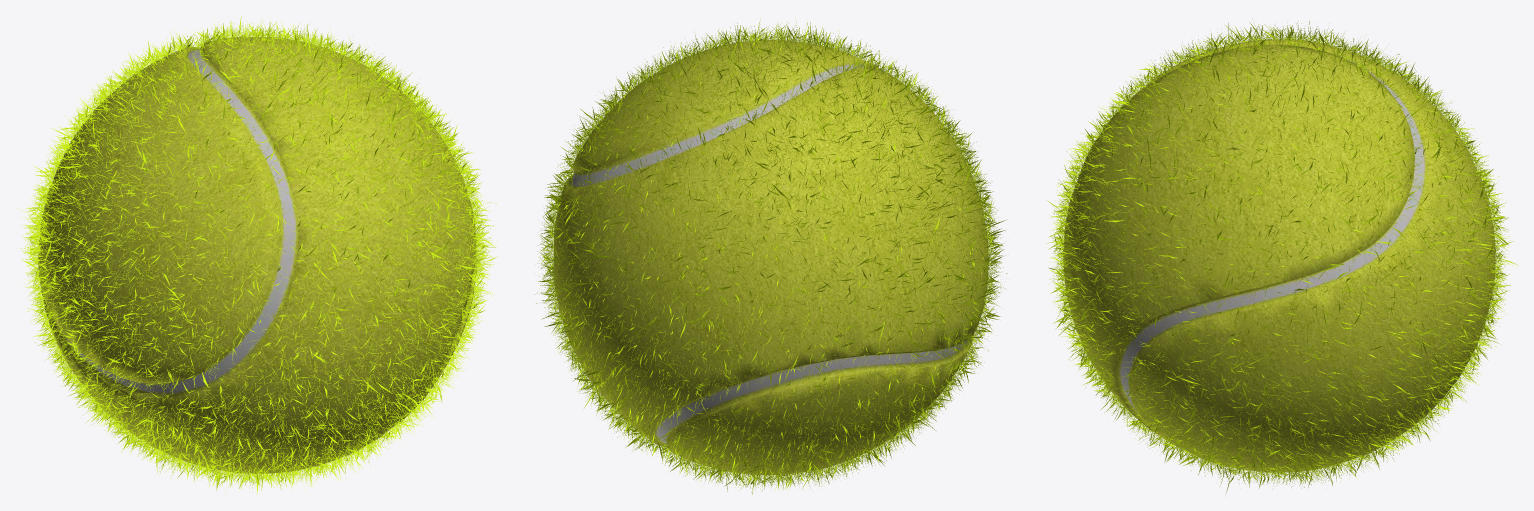
Rendered from tennis-ball.glb.
3 renders of one model, left to right at view 1: azimuth 30°, elevation 25°; view 2: azimuth 150°, elevation 25°; view 3: azimuth 270°, elevation 25°, orthographic.
Visible parts, largest first — view 1: Object_2, Object_3; view 2: Object_2, Object_3; view 3: Object_2, Object_3.
Boxes of the visible parts, left/top/right/bottom form: Object_2: left=38, top=36, right=476, bottom=473; Object_3: left=19, top=16, right=498, bottom=494; Object_2: left=553, top=39, right=988, bottom=474; Object_3: left=536, top=19, right=1007, bottom=494; Object_2: left=1063, top=39, right=1495, bottom=472; Object_3: left=1047, top=21, right=1518, bottom=493.
Bounding box in the file's own units: 6.84 × 6.76 × 6.82.
Materials: 2 (1 with a texture image).
